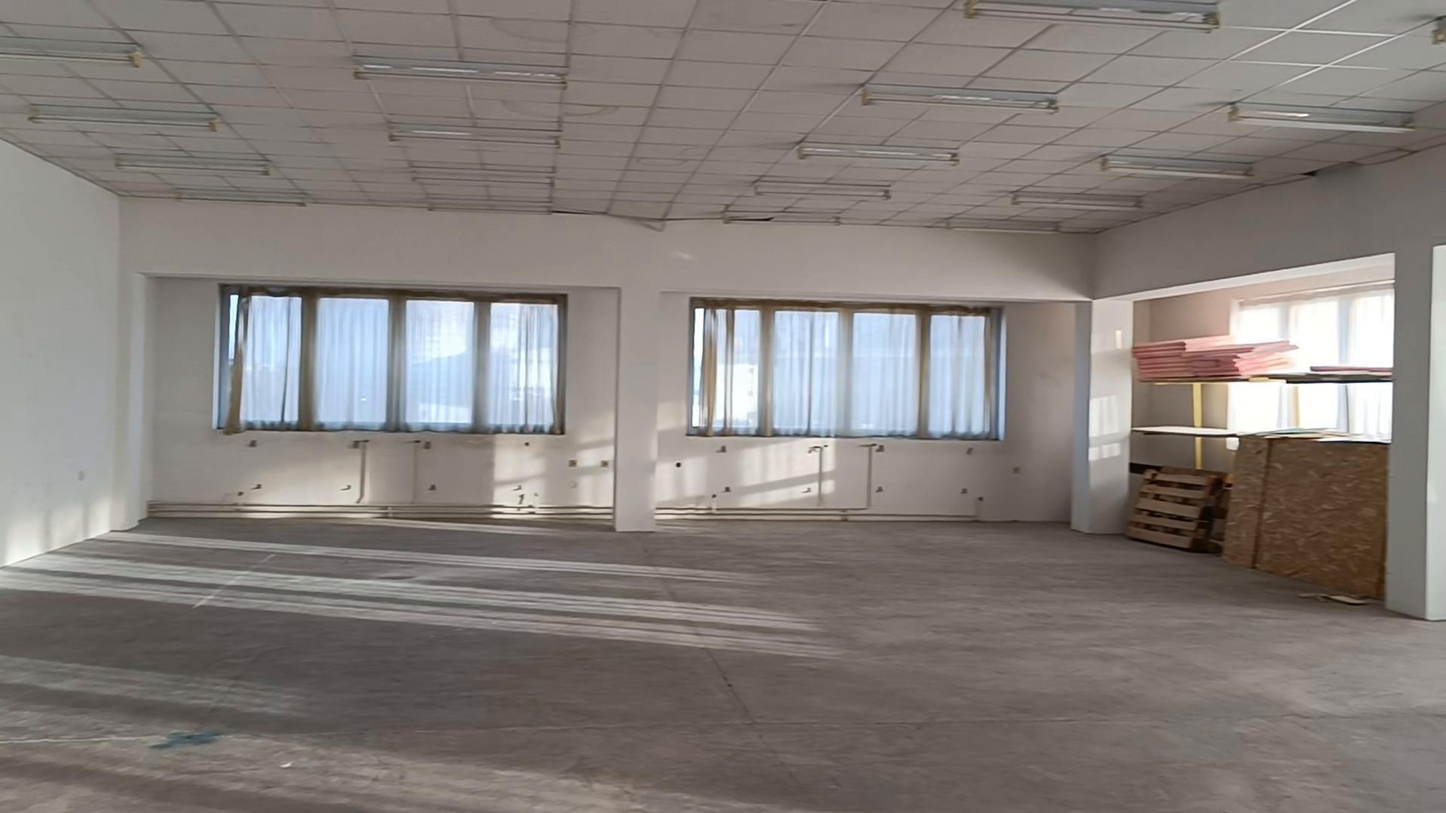ceiling: (0, 0, 1445, 232)
floor: (0, 519, 1445, 812)
